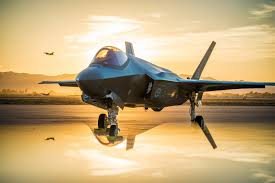fighter: (38, 35, 274, 145)
